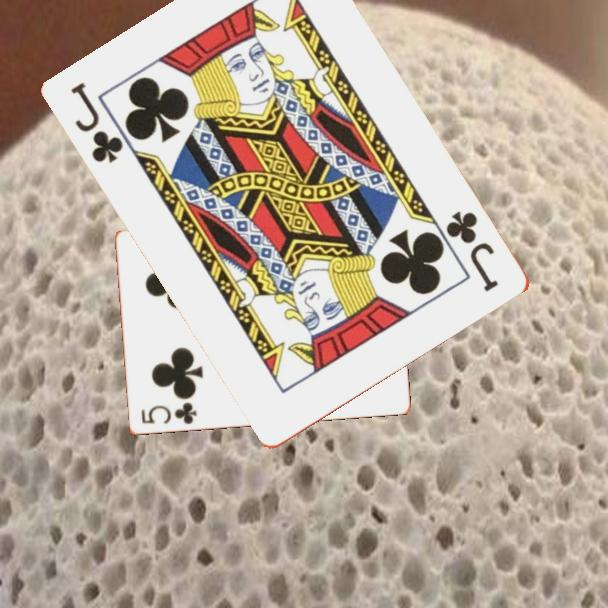c05: (137, 399, 199, 428)
c11: (67, 78, 127, 167), (443, 207, 502, 296)
